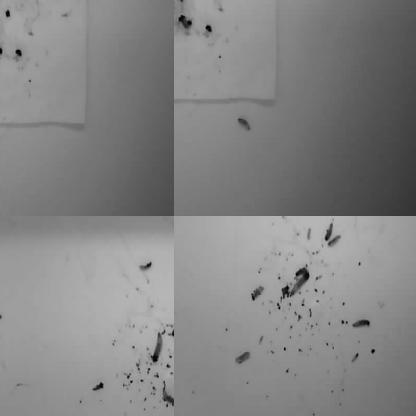PtecticusTenebrifer: (290, 272, 311, 298), (151, 332, 164, 363), (236, 116, 252, 132), (235, 352, 251, 365), (351, 318, 371, 328), (251, 286, 264, 300), (327, 234, 342, 246), (325, 223, 334, 241), (139, 261, 152, 273), (162, 394, 174, 406), (91, 382, 104, 393), (257, 0, 276, 6), (174, 11, 180, 29), (0, 107, 6, 123), (360, 216, 377, 221), (353, 216, 361, 226), (139, 216, 154, 221), (0, 10, 6, 21), (30, 0, 36, 11), (331, 216, 342, 222), (174, 9, 177, 30), (211, 216, 224, 220), (239, 0, 249, 5), (174, 0, 180, 8), (0, 313, 6, 321), (180, 0, 184, 10), (0, 0, 9, 4), (172, 320, 174, 336), (0, 216, 8, 220)
